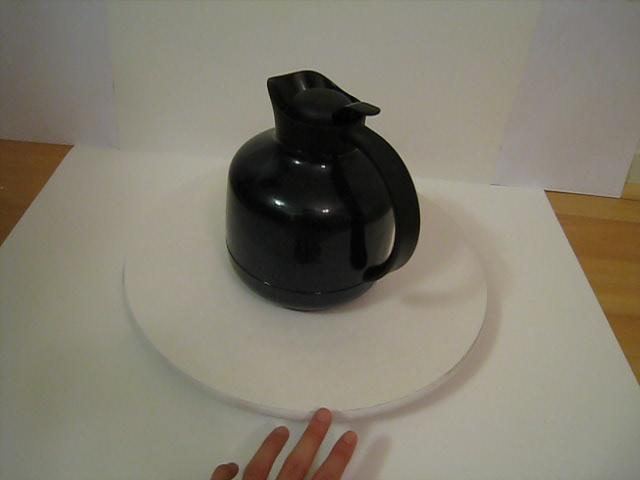pitcher: (210, 70, 428, 316)
